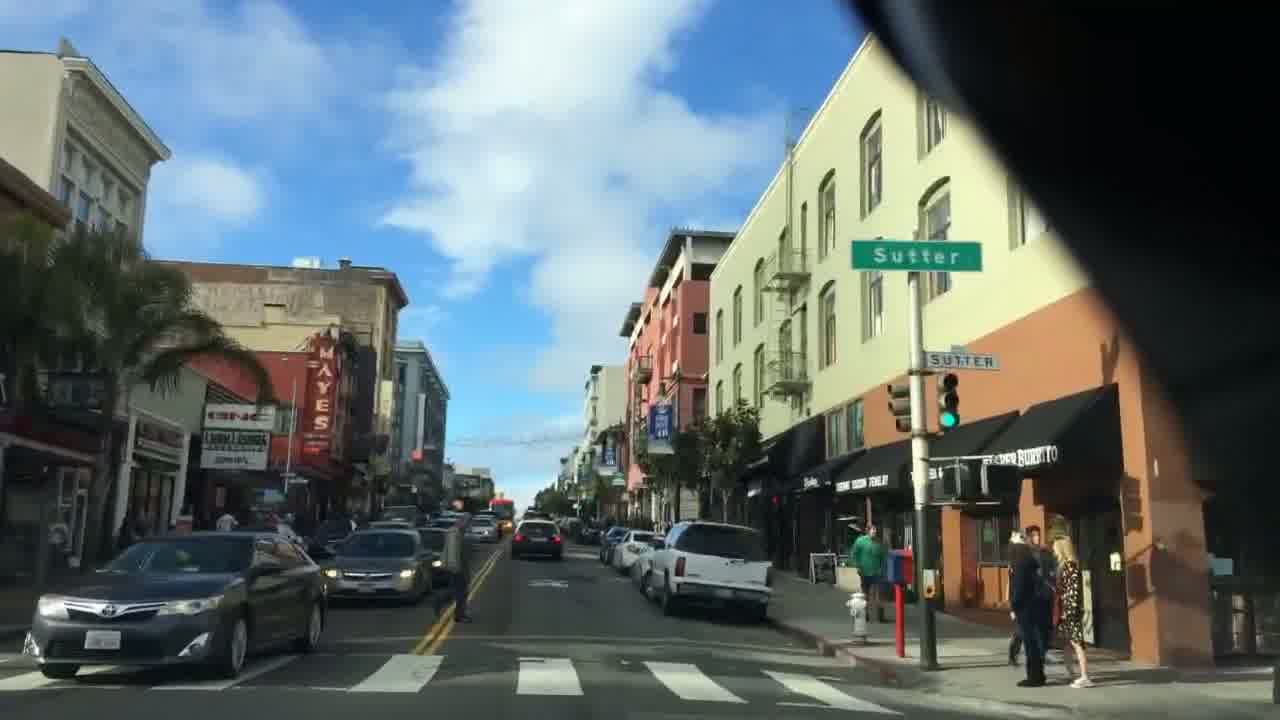car: (22, 530, 329, 678), (640, 517, 776, 618), (320, 527, 432, 604), (610, 529, 662, 576), (414, 526, 450, 588), (511, 519, 562, 560), (465, 517, 498, 543)
pedestrian: (1007, 526, 1051, 689), (1050, 533, 1092, 689), (429, 511, 474, 625), (848, 523, 889, 624)
